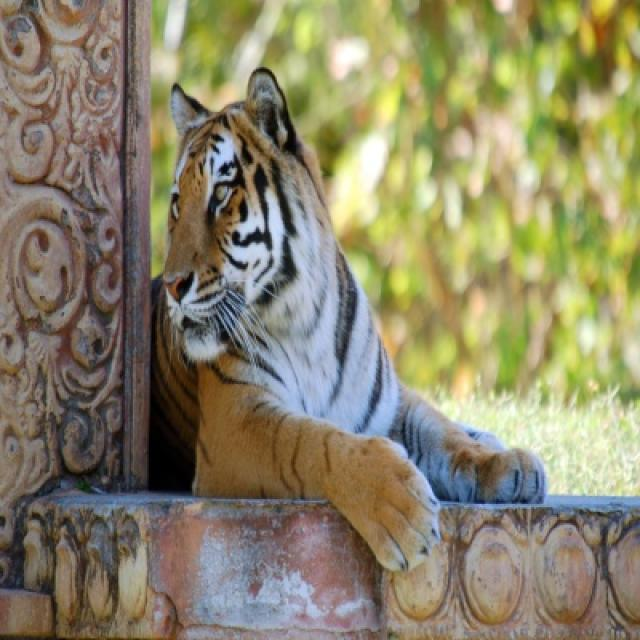Tiger: (160, 69, 542, 571)
